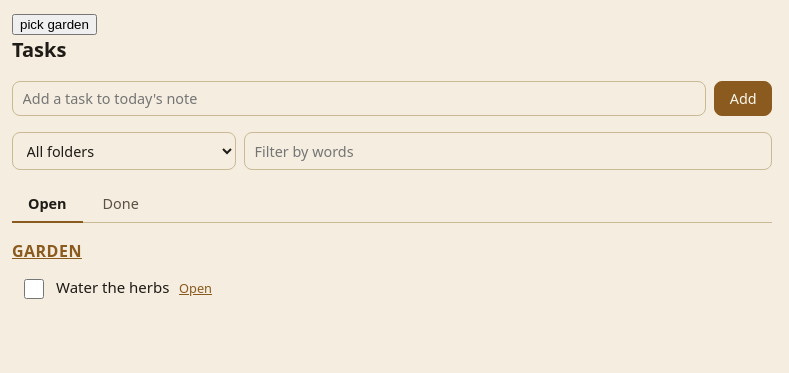
Test case: TasksPage ticking › puts a tick back with the same kind of message on any other failure
Click the checkbox labelled "Water the herbs": (34, 289) [24,279,44,299]
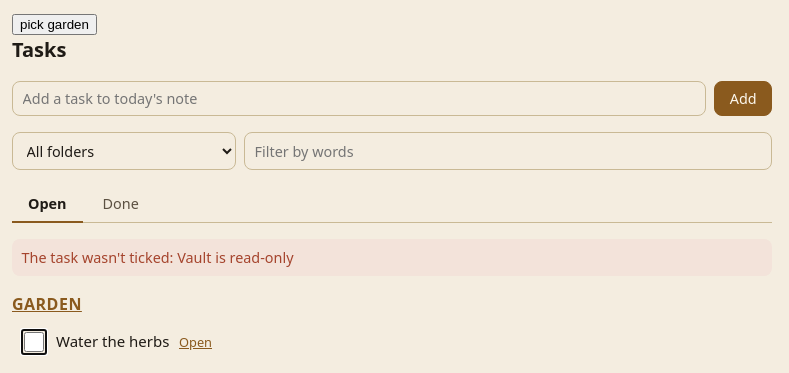
Expected: the checkbox labelled "Water the herbs" is not checked, [24,332,44,352]
Now the message reads "The task wasn't ticked: Vault is read-only", box [22,248,294,267]
